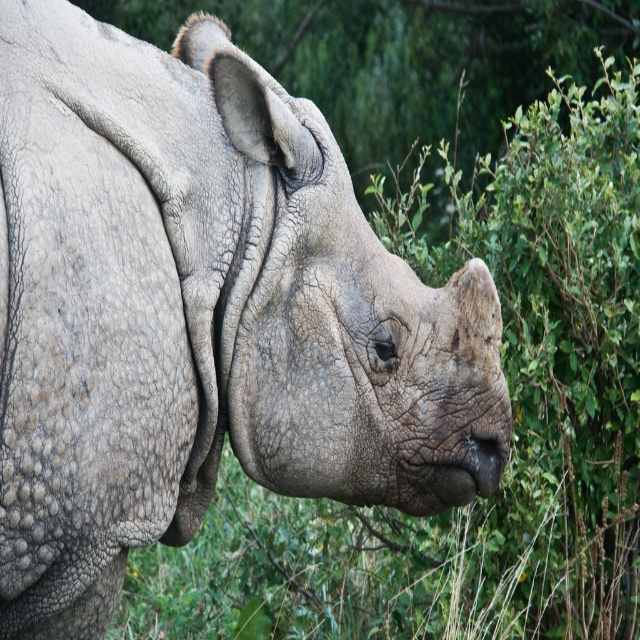Rhinoceros: (0, 0, 517, 639)
